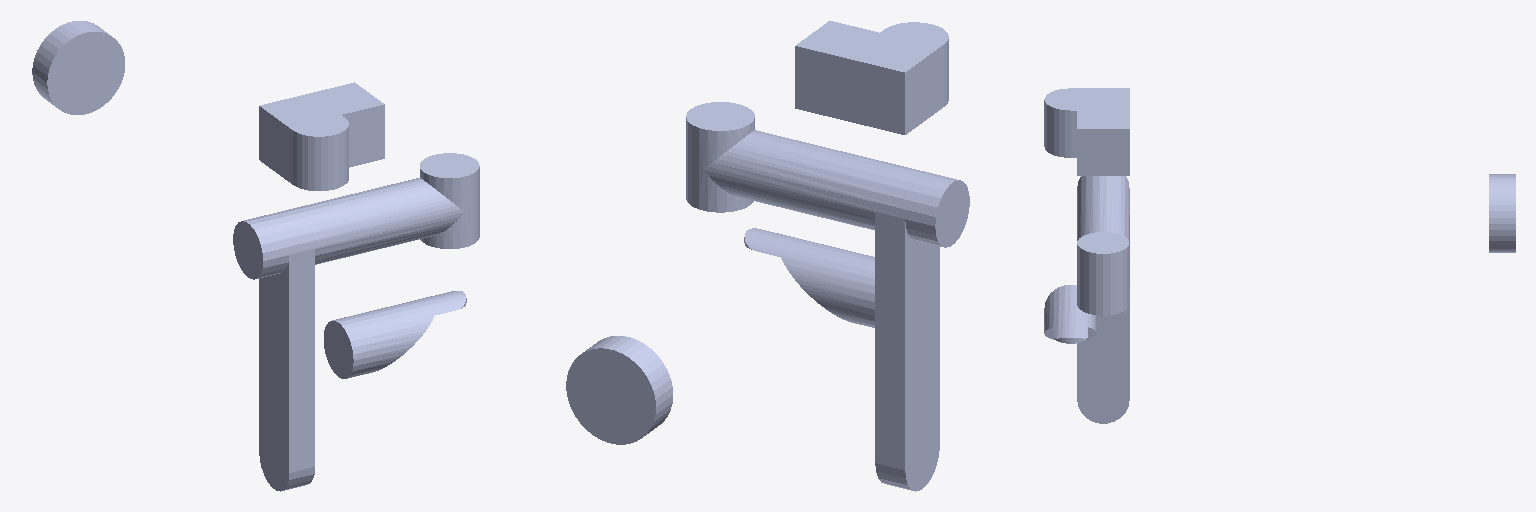
URDF robot description (collision_model):
<?xml version="1.0" encoding="utf-8"?>
<!-- This URDF was automatically created by SolidWorks to URDF Exporter! Originally created by [author] ([email redacted]) 
     Commit Version: 1.6.0-4-g7f85cfe  Build Version: 1.6.7995.38578
     For more information, please see http://wiki.ros.org/sw_urdf_exporter -->
<robot
  name="collision_model">
  <link
    name="base_link">
    <inertial>
      <origin
        xyz="5.4183270023356E-20 -9.34409247101511E-11 0.11741338316776"
        rpy="0 0 0" />
      <mass
        value="0.488523110367591" />
      <inertia
        ixx="0.00216482286553516"
        ixy="6.4519270257832E-11"
        ixz="8.44225861982311E-21"
        iyy="0.00219000167190849"
        iyz="2.85971937298708E-11"
        izz="0.000185585104972243" />
    </inertial>
    <visual>
      <origin
        xyz="0 0 0"
        rpy="0 0 0" />
      <geometry>
        <mesh
          filename="package://collision_model/meshes/base_link.STL" />
      </geometry>
      <material
        name="">
        <color
          rgba="0.792156862745098 0.819607843137255 0.933333333333333 1" />
      </material>
    </visual>
    <collision>
      <origin
        xyz="0 0 0"
        rpy="0 0 0" />
      <geometry>
        <mesh
          filename="package://collision_model/meshes/base_link.STL" />
      </geometry>
    </collision>
  </link>
  <link
    name="Link1">
    <inertial>
      <origin
        xyz="0.1016 1.51378454413293E-09 0.0127"
        rpy="0 0 0" />
      <mass
        value="0.313674503876305" />
      <inertia
        ixx="8.1553118587266E-05"
        ixy="-2.21997971543824E-11"
        ixz="-1.01944550768738E-20"
        iyy="0.00157152700789432"
        iyz="-1.77326897189096E-21"
        izz="0.00161935175266144" />
    </inertial>
    <visual>
      <origin
        xyz="0 0 0"
        rpy="0 0 0" />
      <geometry>
        <mesh
          filename="package://collision_model/meshes/Link1.STL" />
      </geometry>
      <material
        name="">
        <color
          rgba="0.792156862745098 0.819607843137255 0.933333333333333 1" />
      </material>
    </visual>
    <collision>
      <origin
        xyz="0 0 0"
        rpy="0 0 0" />
      <geometry>
        <mesh
          filename="package://collision_model/meshes/Link1.STL" />
      </geometry>
    </collision>
  </link>
  <joint
    name="J1"
    type="fixed">
    <origin
      xyz="-0.05842 -0.39975 0"
      rpy="1.5708 0 1.5708" />
    <parent
      link="base_link" />
    <child
      link="Link1" />
    <axis
      xyz="0 0 0" />
    <limit
      lower="-1.57"
      upper="1.57"
      effort="0"
      velocity="0" />
  </joint>
  <link
    name="Link2">
    <inertial>
      <origin
        xyz="-0.0165420708932736 0.0231329166105553 -0.0254"
        rpy="0 0 0" />
      <mass
        value="0.308430643396306" />
      <inertia
        ixx="0.000204036999562943"
        ixy="4.39650623374062E-05"
        ixz="-2.10016754466683E-20"
        iyy="0.000276166576837886"
        iyz="-5.92305411123232E-22"
        izz="0.000347545500471789" />
    </inertial>
    <visual>
      <origin
        xyz="0 0 0"
        rpy="0 0 0" />
      <geometry>
        <mesh
          filename="package://collision_model/meshes/Link2.STL" />
      </geometry>
      <material
        name="">
        <color
          rgba="0.792156862745098 0.819607843137255 0.933333333333333 1" />
      </material>
    </visual>
    <collision>
      <origin
        xyz="0 0 0"
        rpy="0 0 0" />
      <geometry>
        <mesh
          filename="package://collision_model/meshes/Link2.STL" />
      </geometry>
    </collision>
  </link>
  <joint
    name="J2"
    type="fixed">
    <origin
      xyz="0 0 0.0254"
      rpy="3.1416 0 -1.5708" />
    <parent
      link="Link1" />
    <child
      link="Link2" />
    <axis
      xyz="0 0 0" />
    <limit
      lower="-3.1415"
      upper="1.047"
      effort="0"
      velocity="0" />
  </joint>
  <link
    name="Link3">
    <inertial>
      <origin
        xyz="-0.00461536397384215 -4.68824797594802E-07 0.0343163399901413"
        rpy="0 0 0" />
      <mass
        value="0.121253068639402" />
      <inertia
        ixx="9.2965704866503E-05"
        ixy="4.38437944295819E-11"
        ixz="1.77090421612199E-05"
        iyy="9.233243660226E-05"
        iyz="2.39258029236784E-10"
        izz="3.74847201937908E-05" />
    </inertial>
    <visual>
      <origin
        xyz="0 0 0"
        rpy="0 0 0" />
      <geometry>
        <mesh
          filename="package://collision_model/meshes/Link3.STL" />
      </geometry>
      <material
        name="">
        <color
          rgba="0.792156862745098 0.819607843137255 0.933333333333333 1" />
      </material>
    </visual>
    <collision>
      <origin
        xyz="0 0 0"
        rpy="0 0 0" />
      <geometry>
        <mesh
          filename="package://collision_model/meshes/Link3.STL" />
      </geometry>
    </collision>
  </link>
  <joint
    name="J3"
    type="fixed">
    <origin
      xyz="-0.067818 0.03175 -0.0254"
      rpy="3.1416 -1.5708 0" />
    <parent
      link="Link2" />
    <child
      link="Link3" />
    <axis
      xyz="0 0 0" />
    <limit
      lower="-3.14"
      upper="3.14"
      effort="0"
      velocity="0" />
  </joint>
  <link
    name="Link4">
    <inertial>
      <origin
        xyz="-0.0293219590119236 0 0.009525"
        rpy="0 0 0" />
      <mass
        value="0.0380288100910063" />
      <inertia
        ixx="3.06487674109422E-06"
        ixy="-7.66124623915573E-23"
        ixz="6.09470358626257E-22"
        iyy="2.10220616564141E-05"
        iyz="1.62319809209761E-22"
        izz="2.17868133551664E-05" />
    </inertial>
    <visual>
      <origin
        xyz="0 0 0"
        rpy="0 0 0" />
      <geometry>
        <mesh
          filename="package://collision_model/meshes/Link4.STL" />
      </geometry>
      <material
        name="">
        <color
          rgba="0.792156862745098 0.819607843137255 0.933333333333333 1" />
      </material>
    </visual>
    <collision>
      <origin
        xyz="0 0 0"
        rpy="0 0 0" />
      <geometry>
        <mesh
          filename="package://collision_model/meshes/Link4.STL" />
      </geometry>
    </collision>
  </link>
  <joint
    name="J4"
    type="fixed">
    <origin
      xyz="-0.01905 0 0.16398"
      rpy="0 -1.5708 0" />
    <parent
      link="Link3" />
    <child
      link="Link4" />
    <axis
      xyz="0 0 0" />
    <limit
      lower="-1.57"
      upper="1.57"
      effort="0"
      velocity="0" />
  </joint>
</robot>

--- Render facts (derived) ---
Views: 3 orthographic renders of the robot side by side, from view 1: azimuth 30°, elevation 25°; view 2: azimuth 150°, elevation 25°; view 3: azimuth 270°, elevation 25°.
Model collision_model with 5 links and 4 joints (4 fixed), rooted at base_link, posed every joint at zero.
Links seen in each view (by area): view 1: Link1, Link2, Link3, base_link, Link4; view 2: Link1, Link2, Link3, base_link, Link4; view 3: Link1, Link3, Link2, Link4, base_link.
Link boxes in pixels (<box>): Link1: <box>233,153,479,279</box>; Link2: <box>259,210,314,491</box>; Link3: <box>259,82,384,190</box>; base_link: <box>32,21,124,114</box>; Link4: <box>324,291,466,378</box>; Link1: <box>686,102,969,247</box>; Link2: <box>875,167,939,491</box>; Link3: <box>795,21,948,134</box>; base_link: <box>566,336,672,444</box>; Link4: <box>744,228,874,327</box>; Link1: <box>1077,176,1129,315</box>; Link3: <box>1044,88,1129,175</box>; Link2: <box>1077,176,1129,423</box>; Link4: <box>1044,285,1096,343</box>; base_link: <box>1489,174,1515,252</box>.
Size in the robot's own frame: 0.2219 by 0.4569 by 0.347 metres.
5 mesh visuals loaded from 5 distinct referenced files (5 binary STL).